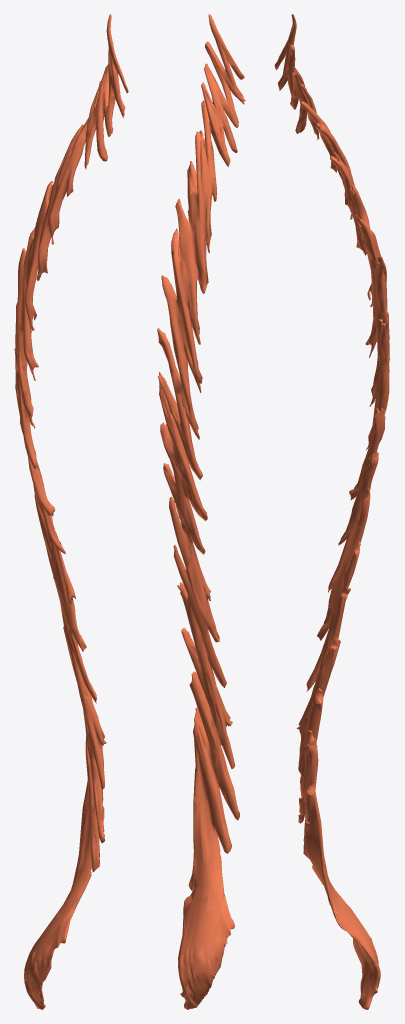
The model's file is Longissimus_thoracis_muscle.r_Generated_Mesh_From_X3D.371.glb.
3 views of the same model, side by side, from view 1: azimuth 90°, elevation 25°; view 2: azimuth 150°, elevation 25°; view 3: azimuth 270°, elevation 25° (orthographic). The views are drawn at different scales.
Parts seen in each view (by area): view 1: Longissimus_thoracis_muscle.r_Generated_Mesh_From_X3D.371; view 2: Longissimus_thoracis_muscle.r_Generated_Mesh_From_X3D.371; view 3: Longissimus_thoracis_muscle.r_Generated_Mesh_From_X3D.371.
Part boxes in pixels (x1,y1,x2,y2): Longissimus_thoracis_muscle.r_Generated_Mesh_From_X3D.371: (14,14,128,1009); Longissimus_thoracis_muscle.r_Generated_Mesh_From_X3D.371: (157,14,245,1009); Longissimus_thoracis_muscle.r_Generated_Mesh_From_X3D.371: (274,14,390,1009).
Size of the model in its own units: 0.0382 by 0.6354 by 0.0666.
